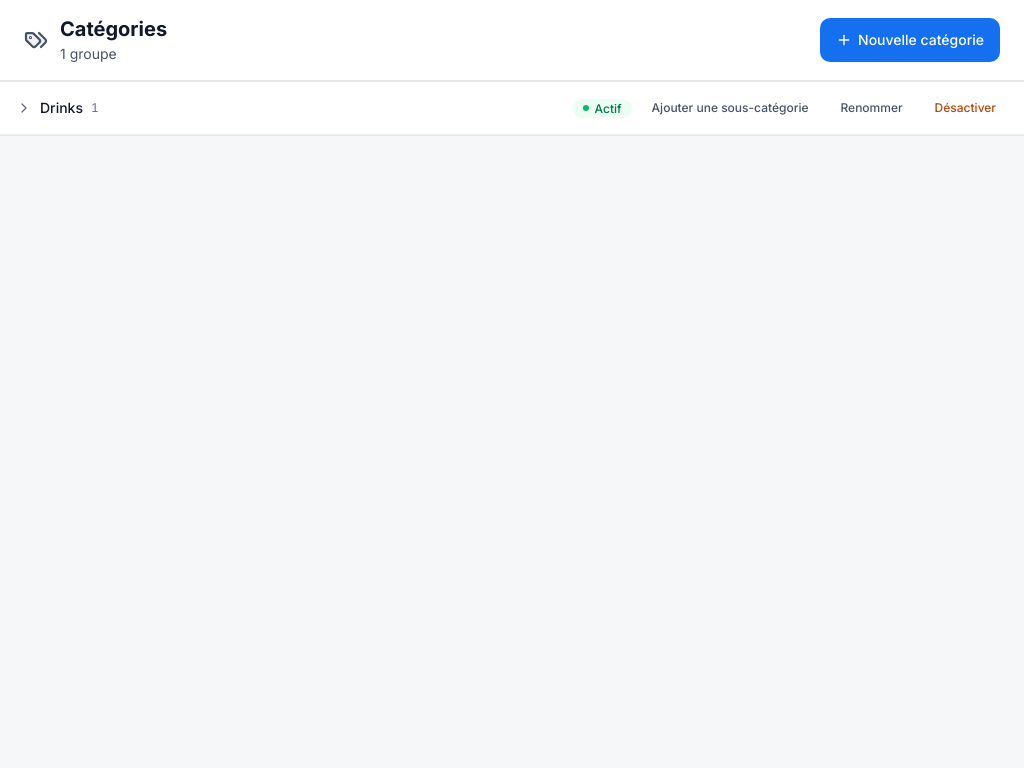
Test: Admin gates and copy › explains that category reactivate does not restore children or products
Click the button "Drinks 1" at (61,108), box [16,98,565,118]
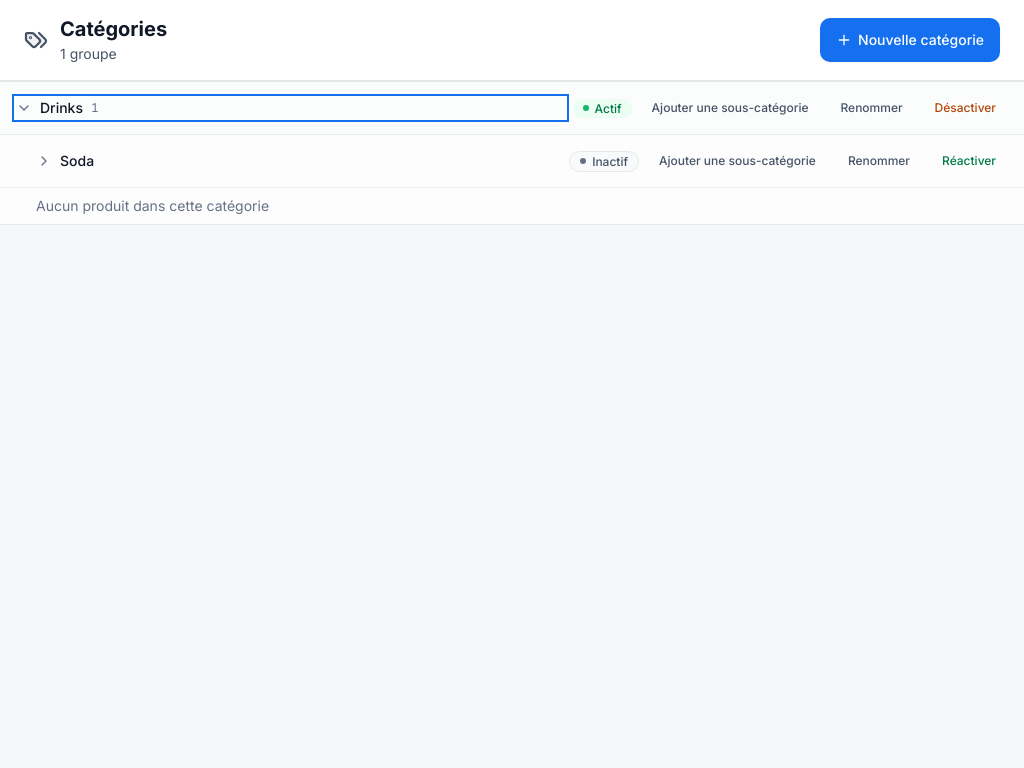
Result: the text "Soda" is shown at [60,151,94,171]
Click the button "Réactiver" at (969,161), box [930,145,1008,177]
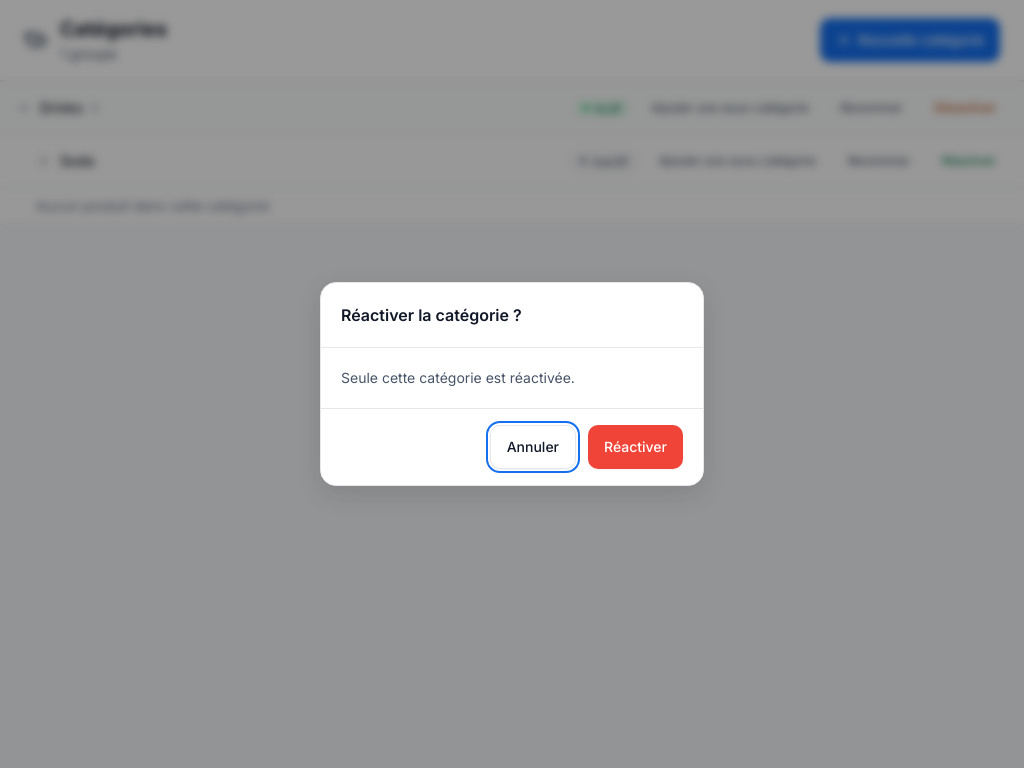
Result: the text "Seule cette catégorie est réactivée." is shown at [341,369,575,386]
